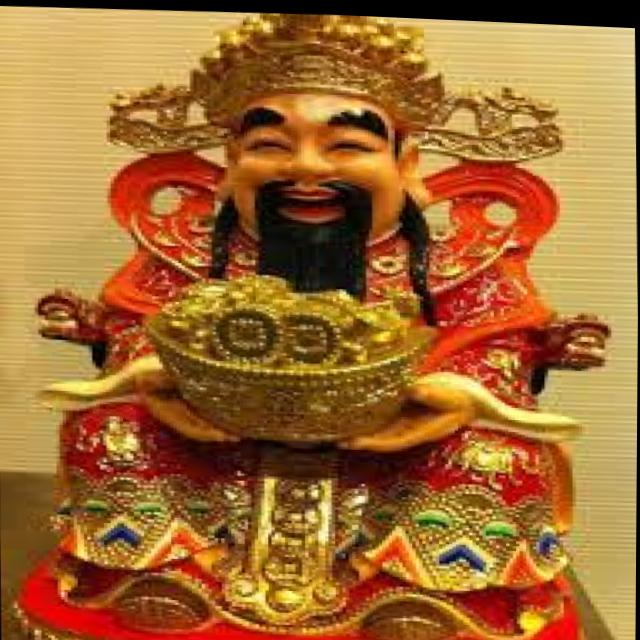Cai shen: (84, 3, 565, 554)
